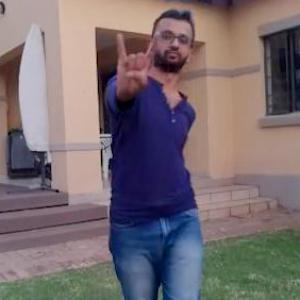takeoff-hand: (110, 23, 167, 104)
